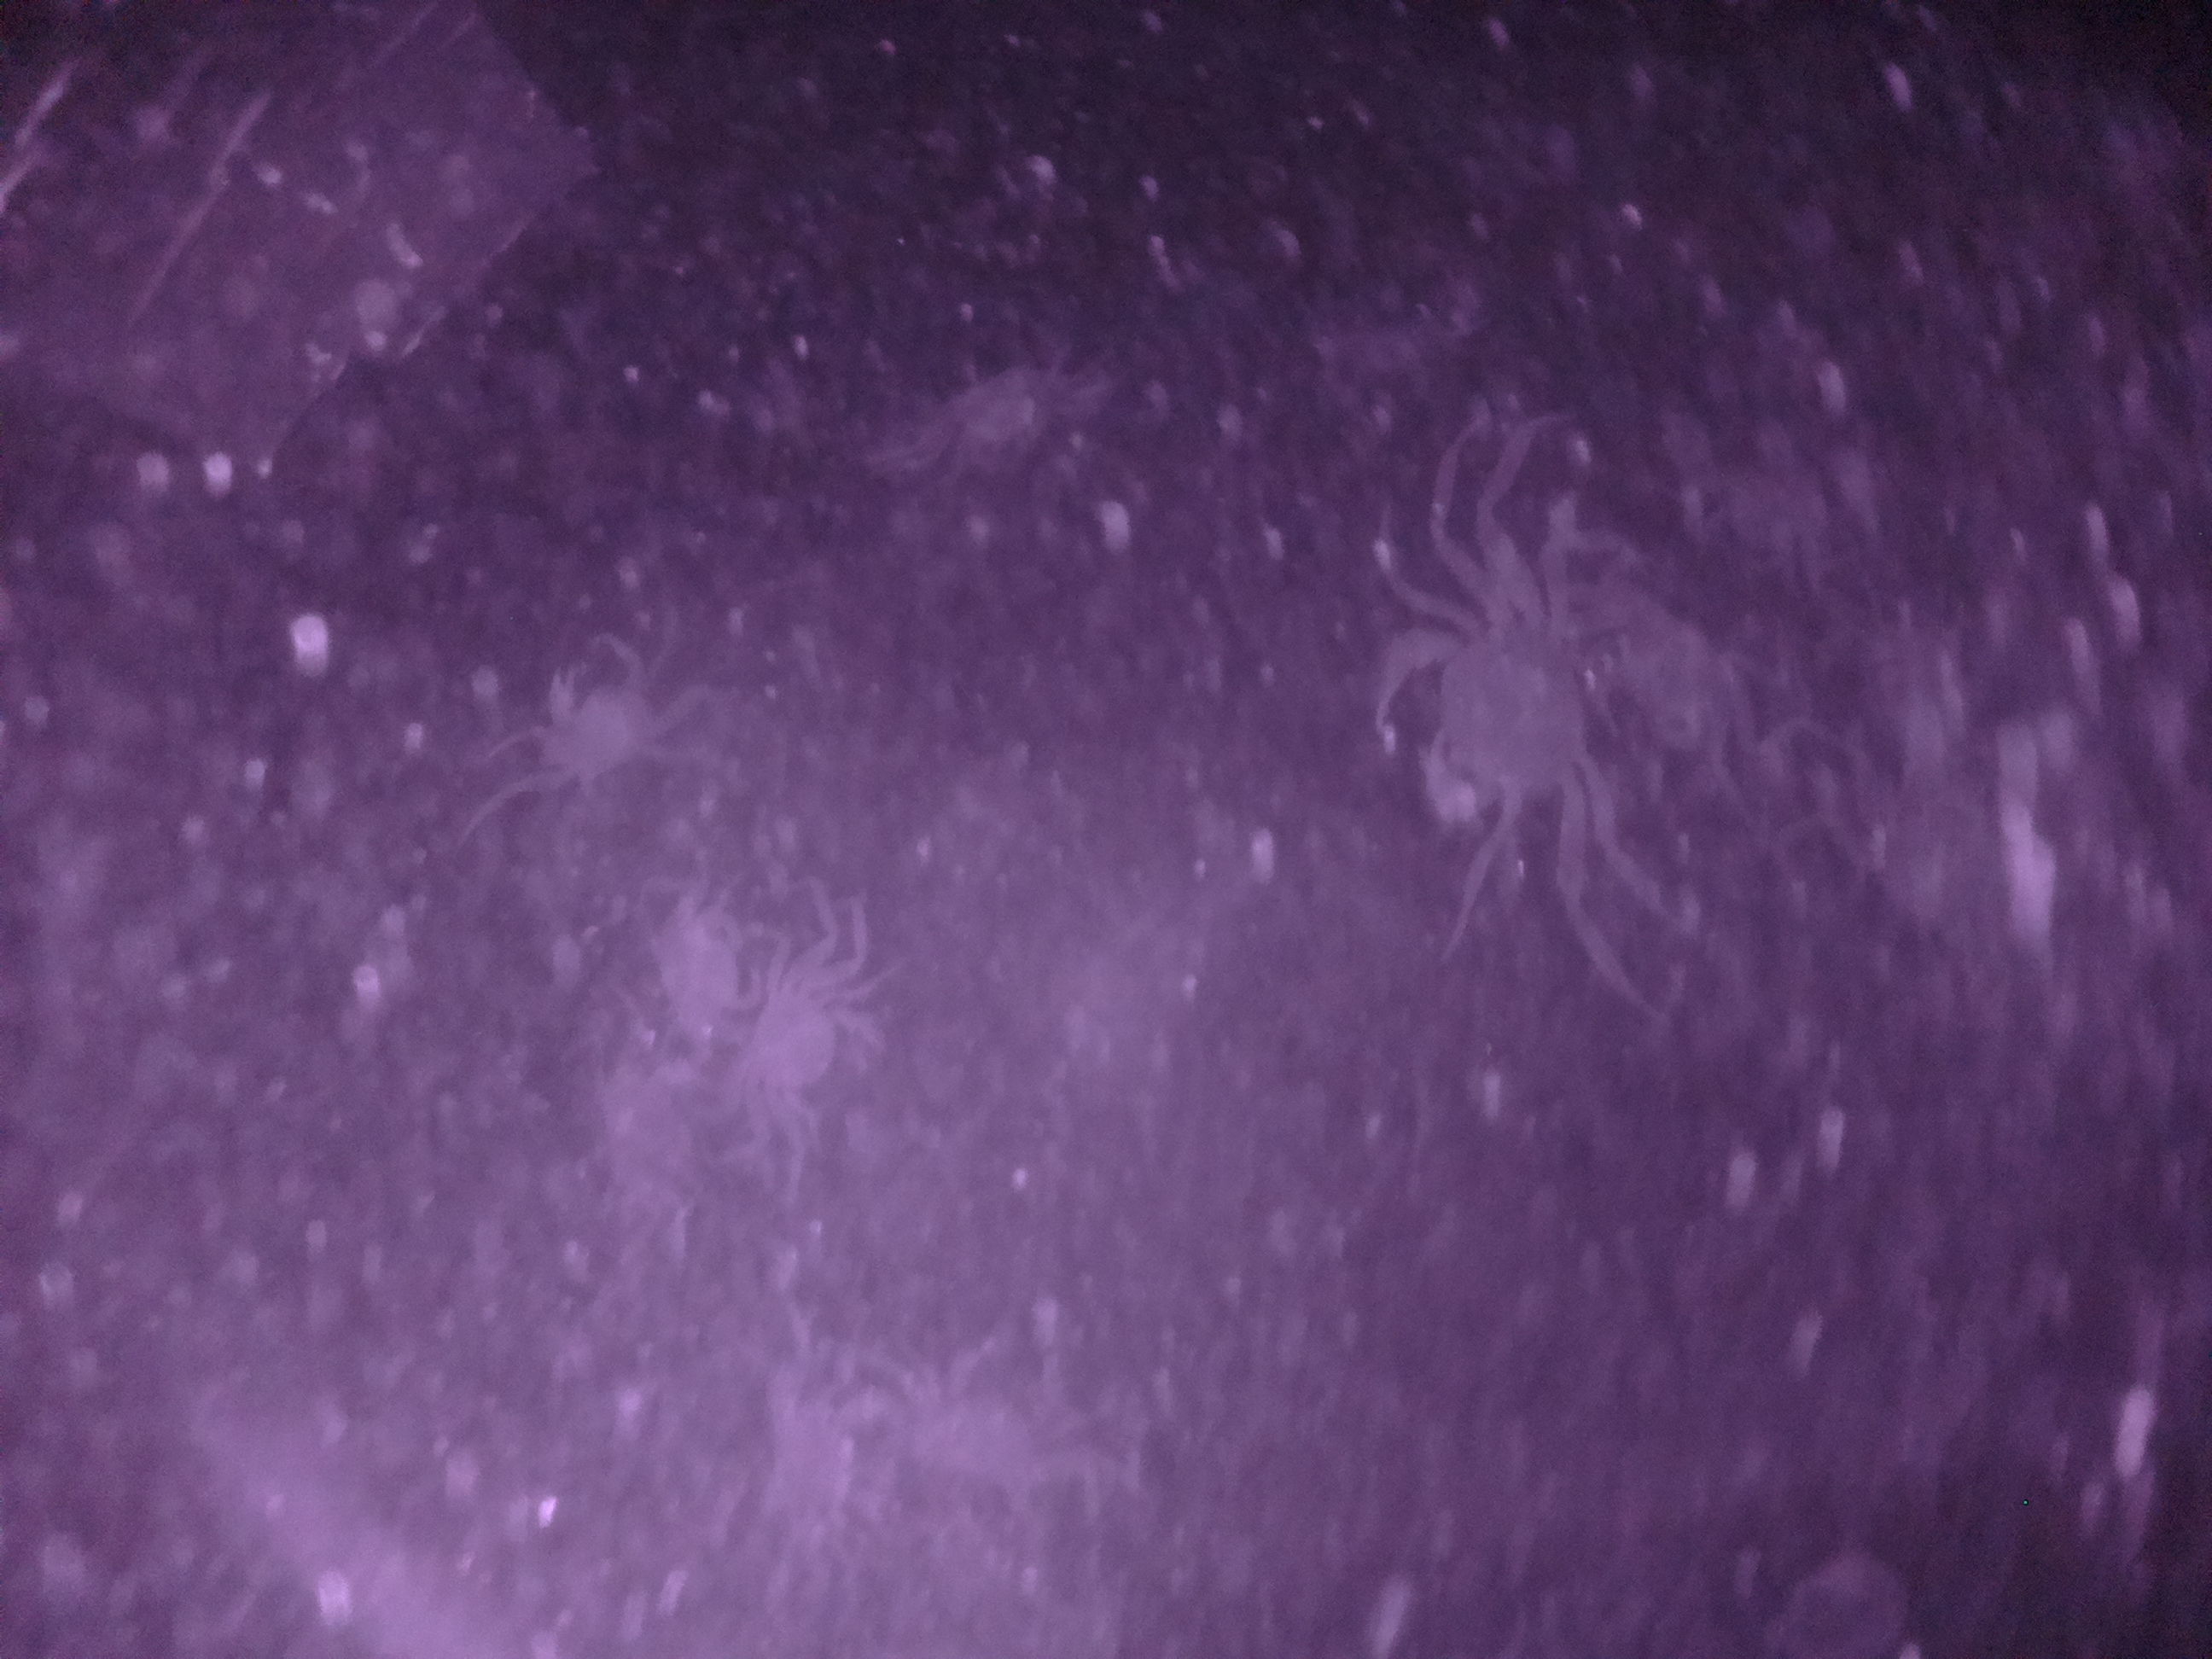Crab: (1343, 566, 1622, 884), (718, 936, 883, 1152)
